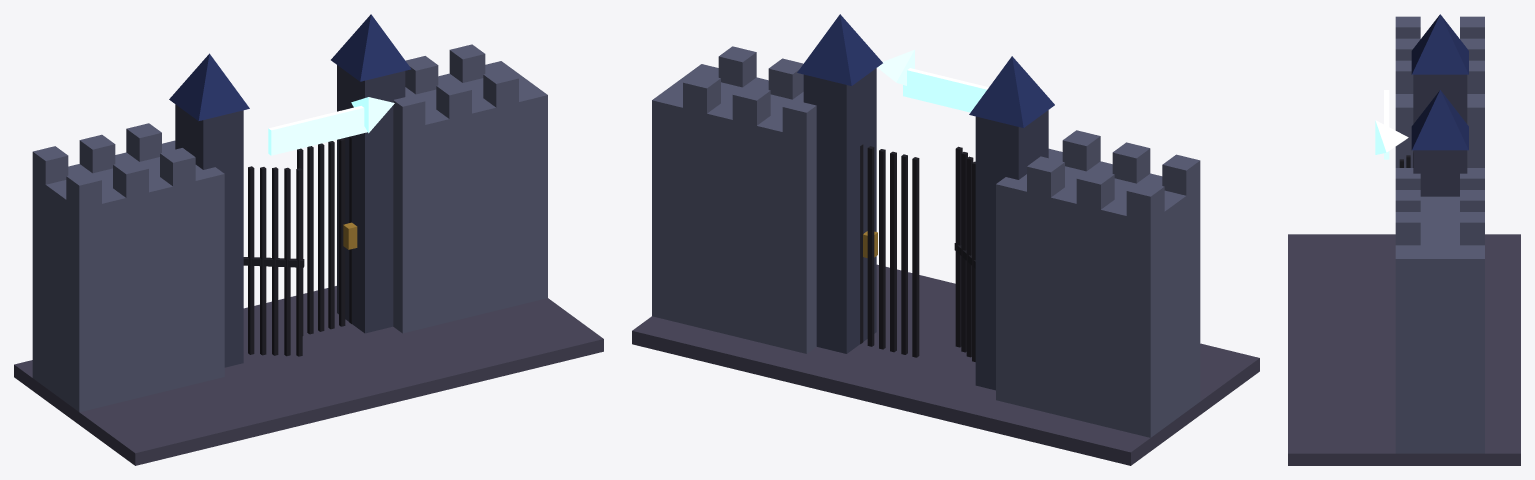
Rendered from nat-iron-gate.glb.
3 renders of one model, left to right at view 1: azimuth 30°, elevation 25°; view 2: azimuth 150°, elevation 25°; view 3: azimuth 270°, elevation 25°, orthographic. The views are drawn at different scales.
Visible parts, largest first — view 1: cw_paint, cw_neon; view 2: cw_paint, cw_neon; view 3: cw_paint, cw_neon.
Part boxes in pixels (left/top/right/bottom): cw_paint: left=14, top=14, right=603, bottom=465; cw_neon: left=268, top=97, right=394, bottom=155; cw_paint: left=632, top=14, right=1259, bottom=465; cw_neon: left=877, top=49, right=988, bottom=112; cw_paint: left=1288, top=14, right=1520, bottom=465; cw_neon: left=1375, top=90, right=1408, bottom=159.
Size of the model in its own units: 5.8 by 3.75 by 2.6.
